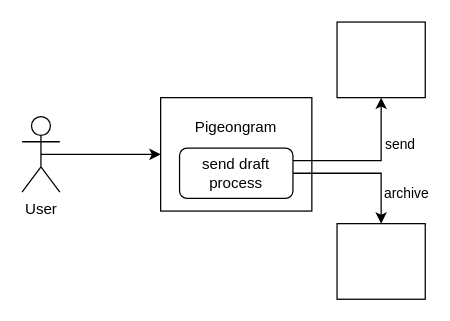
The diagram is 450 pixels wide and 321 high, and some of its shapes have lost their labels. The shapes that lost their labels are listed below. From the top down, each one's box as (x1, y1, x2, y2) in pixels, then its label:
(336, 21, 425, 98): mail server
(336, 222, 425, 299): document management
